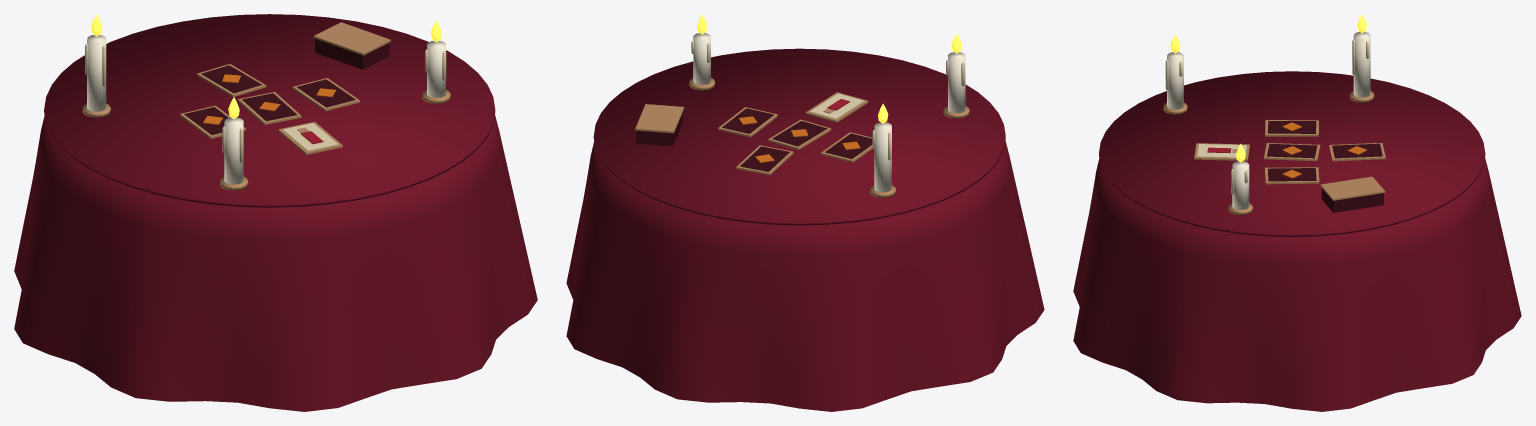
The model's file is reading_table.glb.
The picture shows the model from 3 angles, left to right: view 1: azimuth 30°, elevation 25°; view 2: azimuth 150°, elevation 25°; view 3: azimuth 270°, elevation 25°; orthographic projection. The views are drawn at different scales.
Parts seen in each view (by area): view 1: reading_table; view 2: reading_table; view 3: reading_table.
Part boxes in pixels (bbox=[...]): reading_table: bbox=[14, 14, 537, 411]; reading_table: bbox=[566, 14, 1044, 411]; reading_table: bbox=[1073, 14, 1521, 411].
Bounding box in the file's own units: 0.9723 × 0.584 × 0.961.
